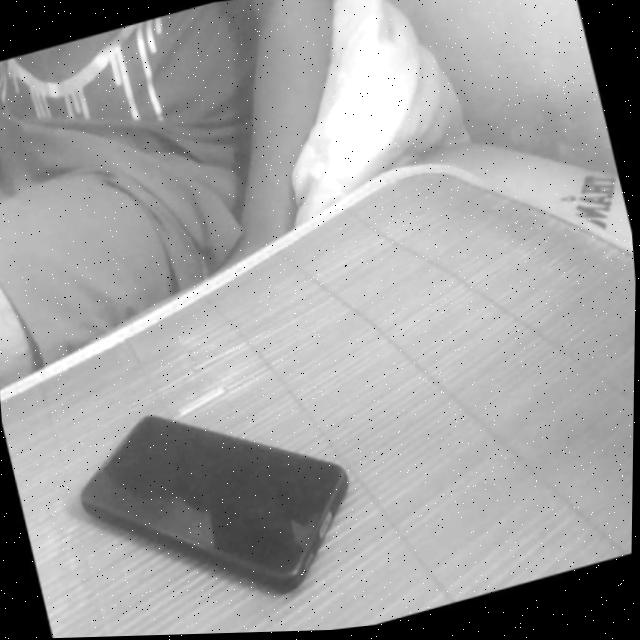phone: (49, 351, 380, 639)
